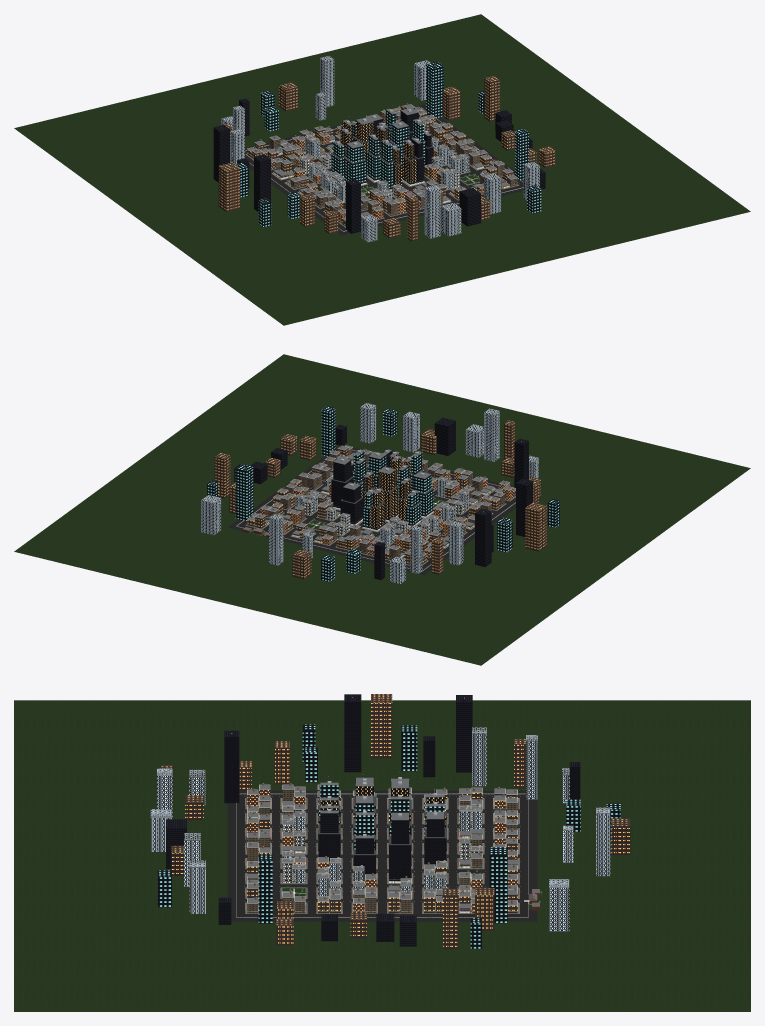
Rendered from getaway-city.glb.
3 renders of one model, top to bottom at view 1: azimuth 30°, elevation 25°; view 2: azimuth 150°, elevation 25°; view 3: azimuth 270°, elevation 25°, orthographic. The views are drawn at different scales.
Parts seen in each view (by area): view 1: Ground, Buildings, Road, Static, Sidewalks; view 2: Ground, Buildings, Road, Static, Sidewalks; view 3: Ground, Buildings, Road, Sidewalks, Static.
Part boxes in pixels (<box>): Ground: <box>14,14,750,325</box>; Buildings: <box>213,56,555,242</box>; Road: <box>245,104,523,235</box>; Static: <box>229,58,523,231</box>; Sidewalks: <box>245,131,519,227</box>; Ground: <box>14,354,750,665</box>; Buildings: <box>201,403,559,584</box>; Road: <box>228,445,515,575</box>; Static: <box>222,408,536,571</box>; Sidewalks: <box>245,465,515,565</box>; Ground: <box>14,700,750,1011</box>; Buildings: <box>150,694,630,949</box>; Road: <box>227,790,537,921</box>; Sidewalks: <box>245,798,519,913</box>; Static: <box>164,697,603,917</box>.
Size of the model in its own units: 1000 by 115 by 1000.
52 materials, 20 textured.
